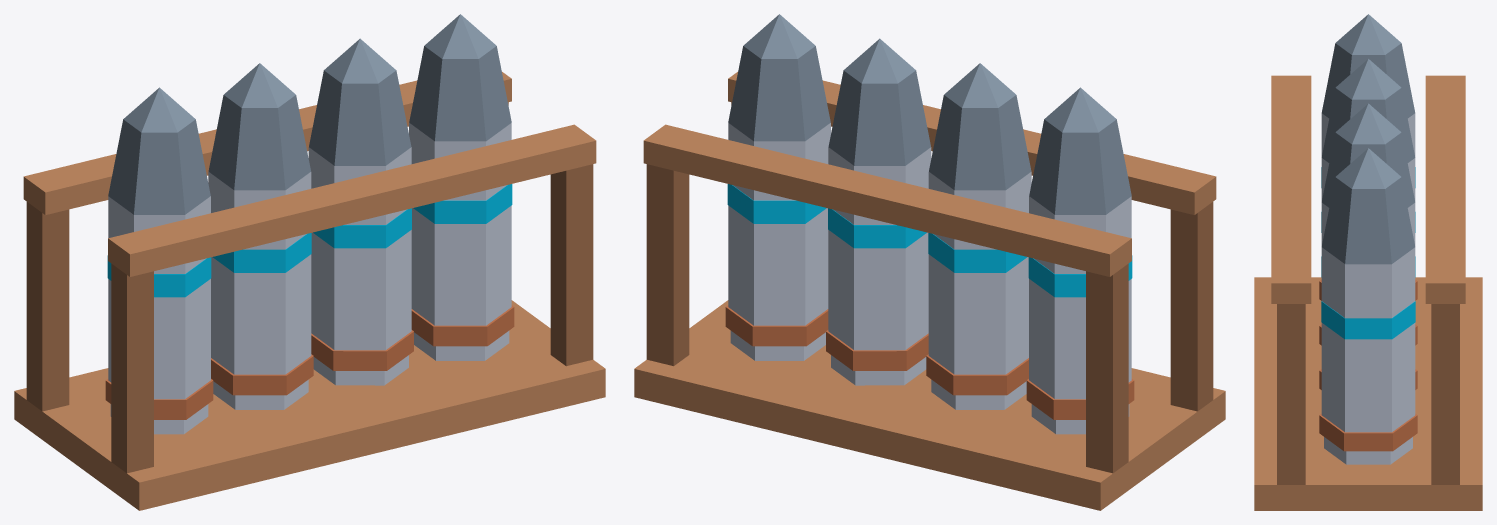
Rendered from ce_ammo_artillery_emp_c.obj.
3 views of the same model, side by side, from view 1: azimuth 30°, elevation 25°; view 2: azimuth 150°, elevation 25°; view 3: azimuth 270°, elevation 25° (orthographic). The views are drawn at different scales.
Visible parts, largest first — view 1: ce_ammo_artillery_emp_c_0, ce_ammo_artillery_emp_c_1, ce_ammo_artillery_emp_c_23, ce_ammo_artillery_emp_c_16, ce_ammo_artillery_emp_c_30, ce_ammo_artillery_emp_c_4, ce_ammo_artillery_emp_c_5, ce_ammo_artillery_emp_c_3, ce_ammo_artillery_emp_c_19, ce_ammo_artillery_emp_c_33, ce_ammo_artillery_emp_c_12, ce_ammo_artillery_emp_c_26 (+22 smaller); view 2: ce_ammo_artillery_emp_c_0, ce_ammo_artillery_emp_c_2, ce_ammo_artillery_emp_c_23, ce_ammo_artillery_emp_c_16, ce_ammo_artillery_emp_c_30, ce_ammo_artillery_emp_c_3, ce_ammo_artillery_emp_c_6, ce_ammo_artillery_emp_c_4, ce_ammo_artillery_emp_c_19, ce_ammo_artillery_emp_c_33, ce_ammo_artillery_emp_c_12, ce_ammo_artillery_emp_c_26 (+22 smaller); view 3: ce_ammo_artillery_emp_c_0, ce_ammo_artillery_emp_c_1, ce_ammo_artillery_emp_c_2, ce_ammo_artillery_emp_c_30, ce_ammo_artillery_emp_c_33, ce_ammo_artillery_emp_c_5, ce_ammo_artillery_emp_c_6, ce_ammo_artillery_emp_c_32, ce_ammo_artillery_emp_c_19, ce_ammo_artillery_emp_c_26, ce_ammo_artillery_emp_c_12, ce_ammo_artillery_emp_c_31 (+9 smaller).
Part boxes in pixels (box(x1,y1,x2,y2)): ce_ammo_artillery_emp_c_0: box(14, 300, 605, 510); ce_ammo_artillery_emp_c_1: box(108, 124, 596, 276); ce_ammo_artillery_emp_c_23: box(311, 230, 411, 350); ce_ammo_artillery_emp_c_16: box(211, 254, 311, 374); ce_ammo_artillery_emp_c_30: box(411, 205, 511, 325); ce_ammo_artillery_emp_c_4: box(26, 202, 69, 411); ce_ammo_artillery_emp_c_5: box(550, 164, 593, 366); ce_ammo_artillery_emp_c_3: box(111, 263, 153, 473); ce_ammo_artillery_emp_c_19: box(208, 95, 310, 190); ce_ammo_artillery_emp_c_33: box(409, 46, 511, 141); ce_ammo_artillery_emp_c_12: box(108, 119, 210, 214); ce_ammo_artillery_emp_c_26: box(309, 70, 411, 165); ce_ammo_artillery_emp_c_0: box(634, 300, 1225, 510); ce_ammo_artillery_emp_c_2: box(643, 124, 1131, 276); ce_ammo_artillery_emp_c_23: box(828, 230, 928, 350); ce_ammo_artillery_emp_c_16: box(928, 254, 1028, 374); ce_ammo_artillery_emp_c_30: box(728, 205, 828, 325); ce_ammo_artillery_emp_c_3: box(1170, 202, 1213, 411); ce_ammo_artillery_emp_c_6: box(646, 164, 689, 366); ce_ammo_artillery_emp_c_4: box(1086, 263, 1128, 473); ce_ammo_artillery_emp_c_19: box(929, 95, 1031, 190); ce_ammo_artillery_emp_c_33: box(728, 46, 830, 141); ce_ammo_artillery_emp_c_12: box(1029, 119, 1131, 214); ce_ammo_artillery_emp_c_26: box(828, 70, 930, 165); ce_ammo_artillery_emp_c_0: box(1254, 277, 1482, 510); ce_ammo_artillery_emp_c_1: box(1271, 75, 1311, 303); ce_ammo_artillery_emp_c_2: box(1425, 75, 1465, 303); ce_ammo_artillery_emp_c_30: box(1321, 323, 1415, 432); ce_ammo_artillery_emp_c_33: box(1321, 177, 1415, 264); ce_ammo_artillery_emp_c_5: box(1277, 304, 1305, 484); ce_ammo_artillery_emp_c_6: box(1431, 304, 1459, 484); ce_ammo_artillery_emp_c_32: box(1321, 247, 1415, 318); ce_ammo_artillery_emp_c_19: box(1321, 88, 1415, 162); ce_ammo_artillery_emp_c_26: box(1321, 132, 1415, 207); ce_ammo_artillery_emp_c_12: box(1321, 43, 1415, 118); ce_ammo_artillery_emp_c_31: box(1321, 301, 1415, 339).
Size of the model in its own units: 0.86 by 0.63 by 0.4.
